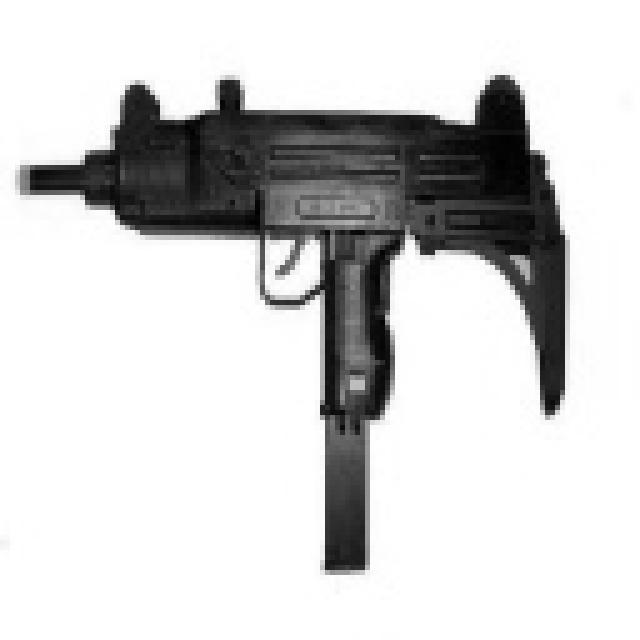Rifle: (0, 0, 605, 600)
